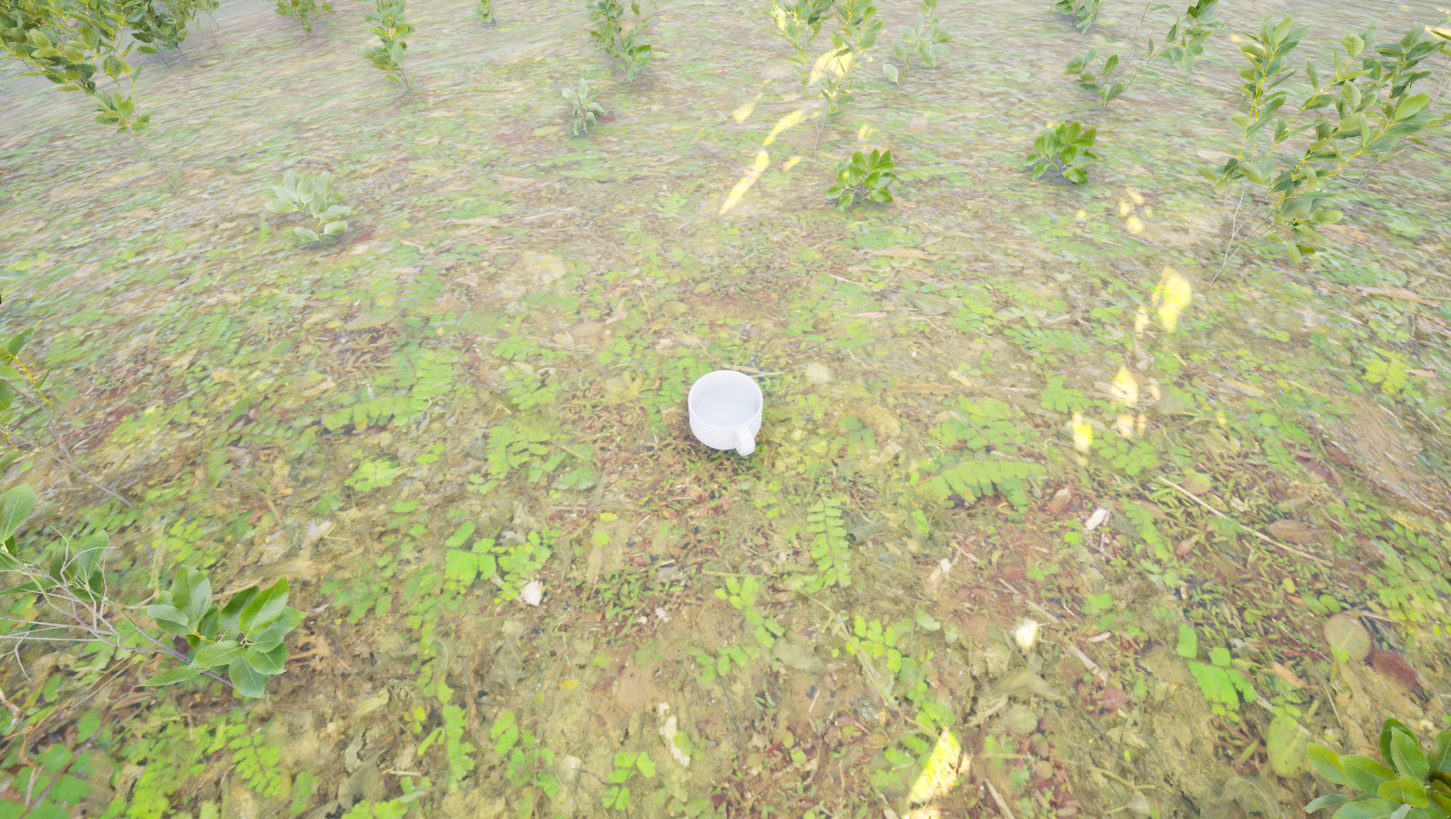Teacup: (679, 366, 767, 464)
